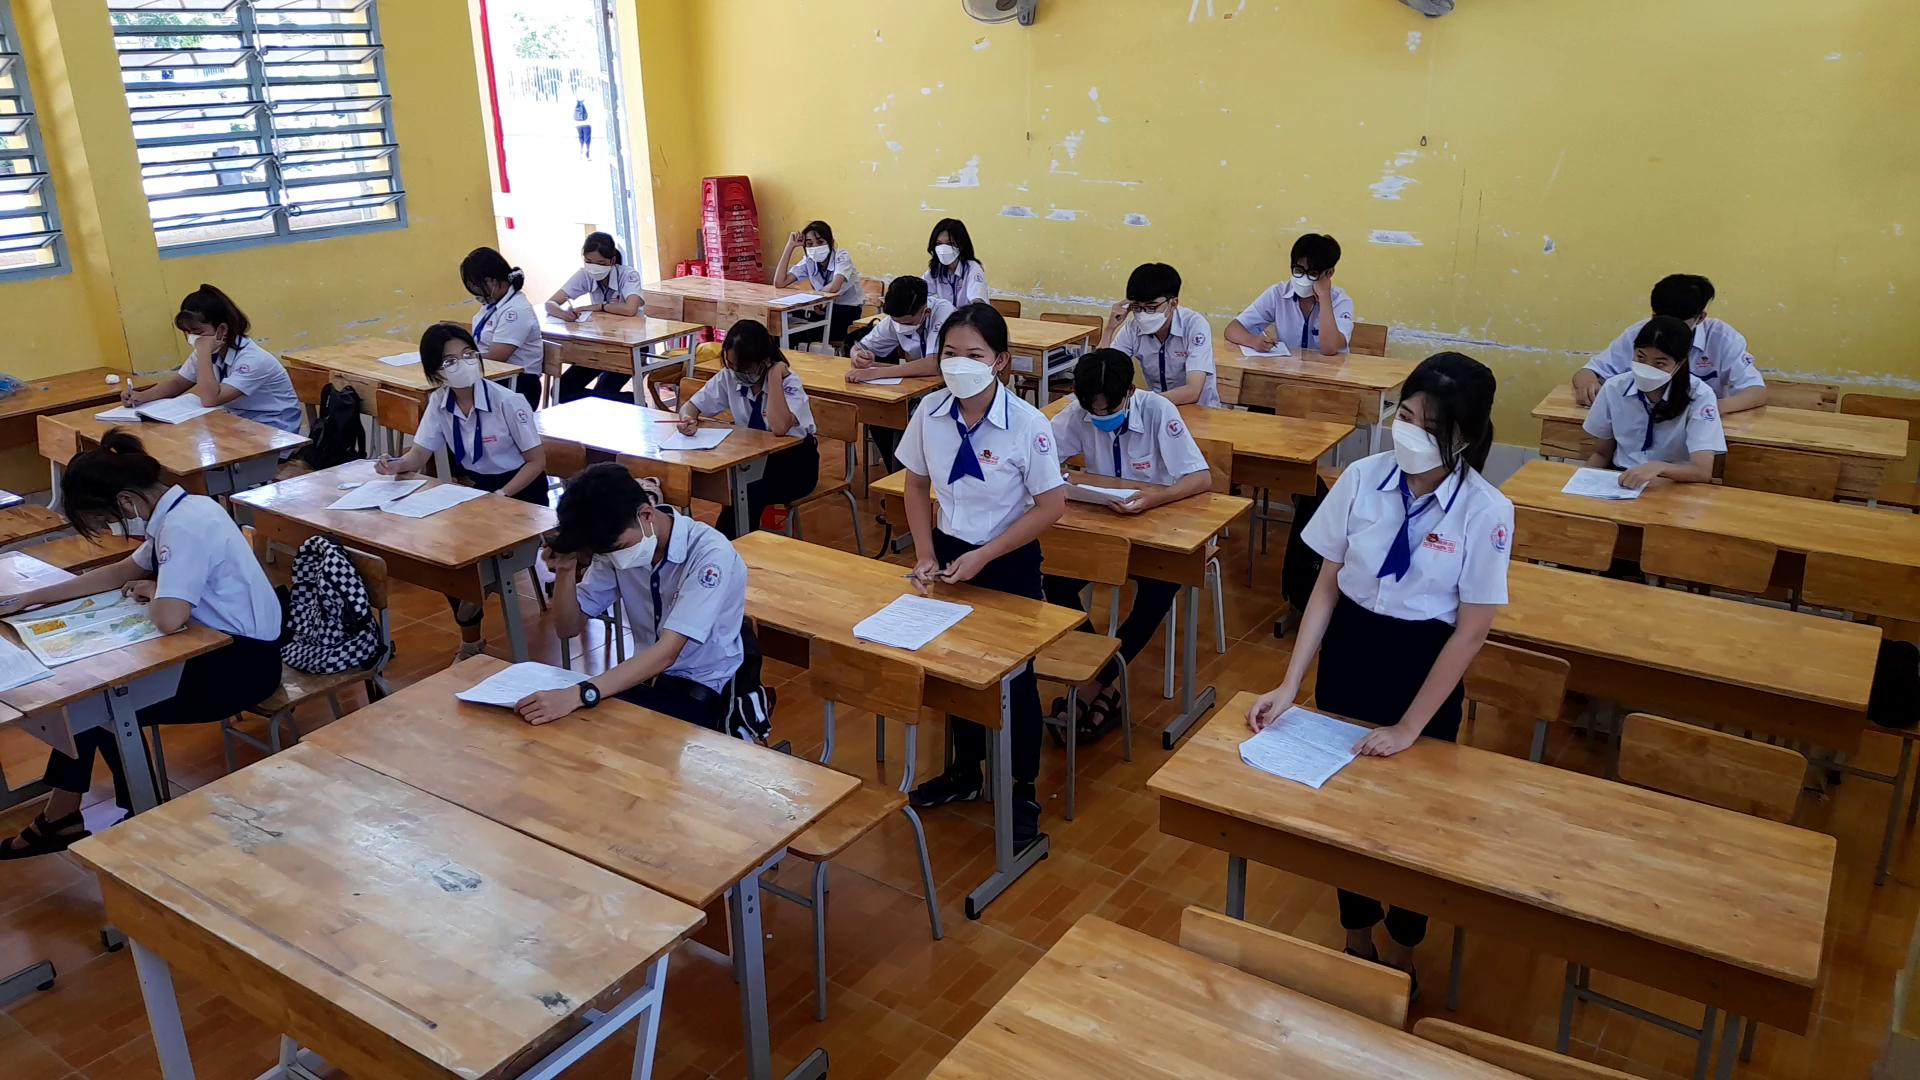Bend Over The Desk: (45, 419, 158, 553)
Hand Under Table: (483, 386, 549, 506), (1573, 375, 1623, 476), (479, 301, 535, 378)
Normal: (1047, 334, 1218, 514), (541, 218, 645, 326), (916, 200, 993, 309)
Stand Up: (1234, 338, 1518, 770), (897, 301, 1063, 589)
Wave: (537, 527, 593, 649), (185, 331, 245, 411), (1307, 266, 1346, 364), (758, 349, 796, 442), (762, 216, 800, 291)
